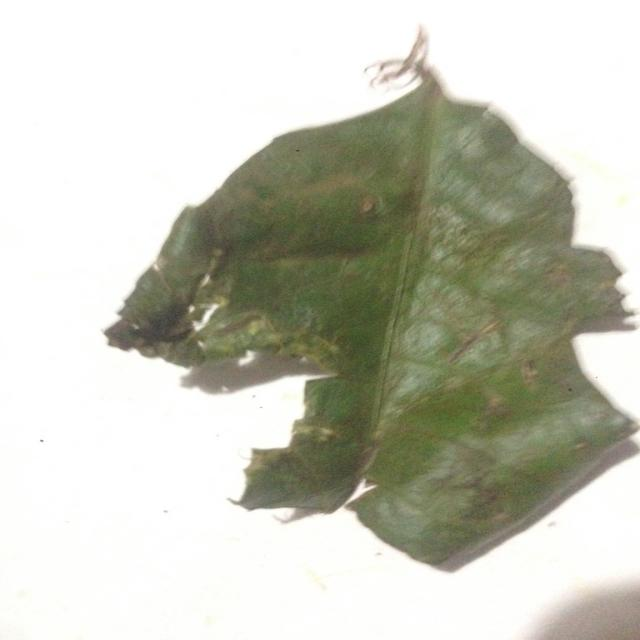Red Leaf Spot: (95, 13, 636, 590)
